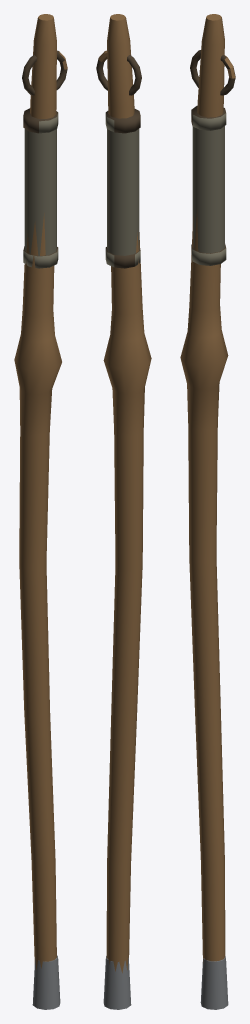
Rendered from walking_staff.fbx.
3 views of the same model, side by side, from view 1: azimuth 30°, elevation 25°; view 2: azimuth 150°, elevation 25°; view 3: azimuth 330°, elevation 25° (orthographic).
Visible parts, largest first — view 1: Mesh_Staff_Nomad; view 2: Mesh_Staff_Nomad; view 3: Mesh_Staff_Nomad.
Part boxes in pixels (bbox=[...]): Mesh_Staff_Nomad: bbox=[14, 14, 67, 1009]; Mesh_Staff_Nomad: bbox=[96, 14, 151, 1009]; Mesh_Staff_Nomad: bbox=[180, 14, 235, 1009].
Bounding box in the file's own units: 8.87 × 164 × 6.89.
